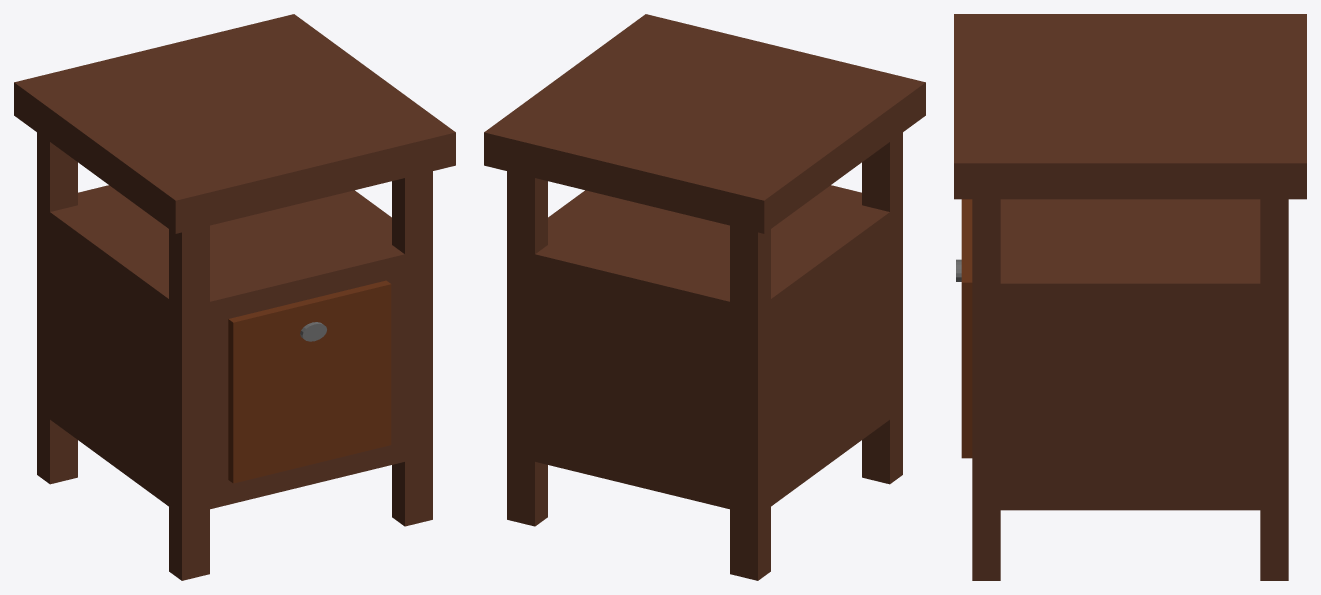
Rendered from tableSmall.fbx.
The picture shows the model from 3 angles, left to right: view 1: azimuth 30°, elevation 25°; view 2: azimuth 150°, elevation 25°; view 3: azimuth 270°, elevation 25°; orthographic projection. The views are drawn at different scales.
Visible parts, largest first — view 1: Small Table; view 2: Small Table; view 3: Small Table.
Boxes of the visible parts, x1,y1,x2,y2 form: Small Table: [14, 14, 455, 580]; Small Table: [484, 14, 925, 580]; Small Table: [954, 14, 1306, 580].
Size of the model in its own units: 74.13 by 74.13 by 98.62.
